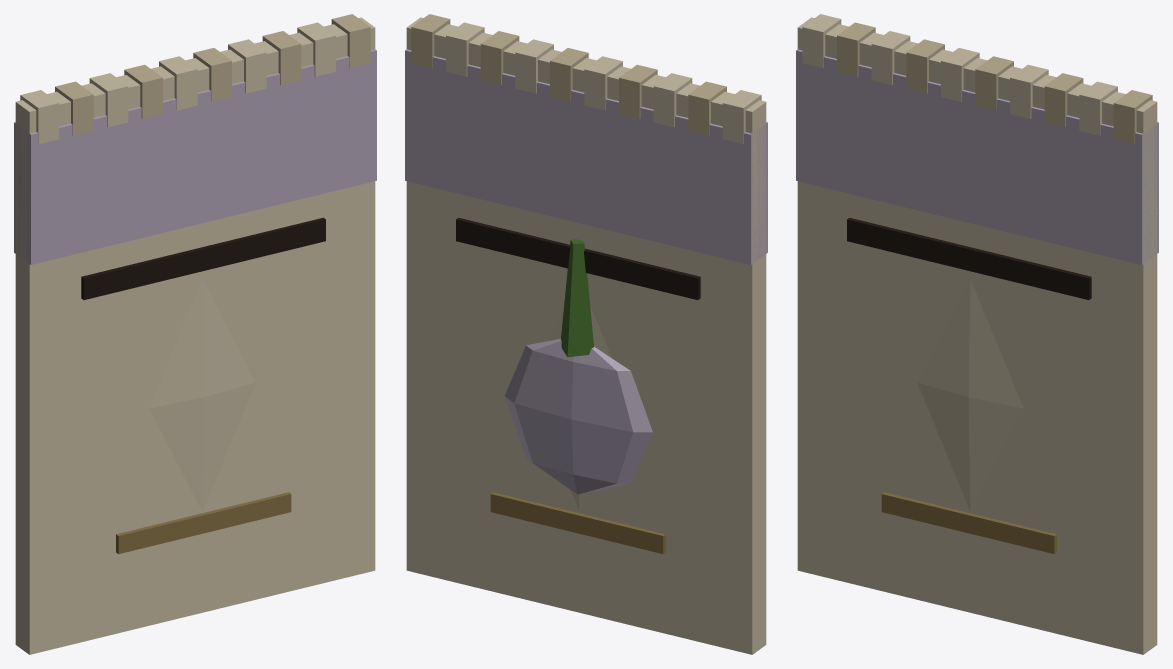
Rendered from tool_seed_packet_turnip.glb.
3 views of the same model, side by side, from view 1: azimuth 30°, elevation 25°; view 2: azimuth 150°, elevation 25°; view 3: azimuth 330°, elevation 25° (orthographic).
Visible parts, largest first — view 1: Packet; view 2: Packet; view 3: Packet.
Boxes of the visible parts, x1,y1,x2,y2 form: Packet: [14, 14, 376, 654]; Packet: [405, 14, 767, 654]; Packet: [796, 14, 1158, 654].
Bounding box in the file's own units: 0.1 × 0.151 × 0.0142.
